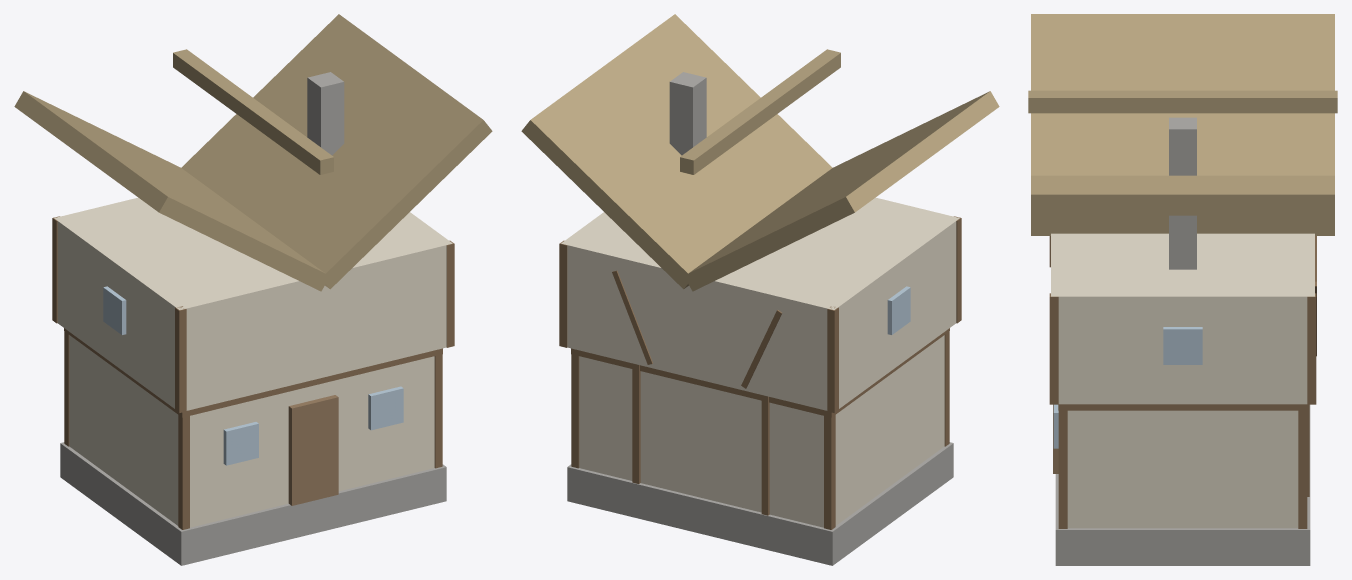
File: house1.glb
3 renders of one model, left to right at view 1: azimuth 30°, elevation 25°; view 2: azimuth 150°, elevation 25°; view 3: azimuth 270°, elevation 25°, orthographic. The views are drawn at different scales.
Visible parts, largest first — view 1: House1; view 2: House1; view 3: House1.
Part boxes in pixels (x1,y1,x2,y2): House1: [14, 14, 492, 565]; House1: [521, 14, 999, 565]; House1: [1028, 14, 1337, 565].
Bounding box in the file's own units: 7.16 × 8.04 × 5.48.
